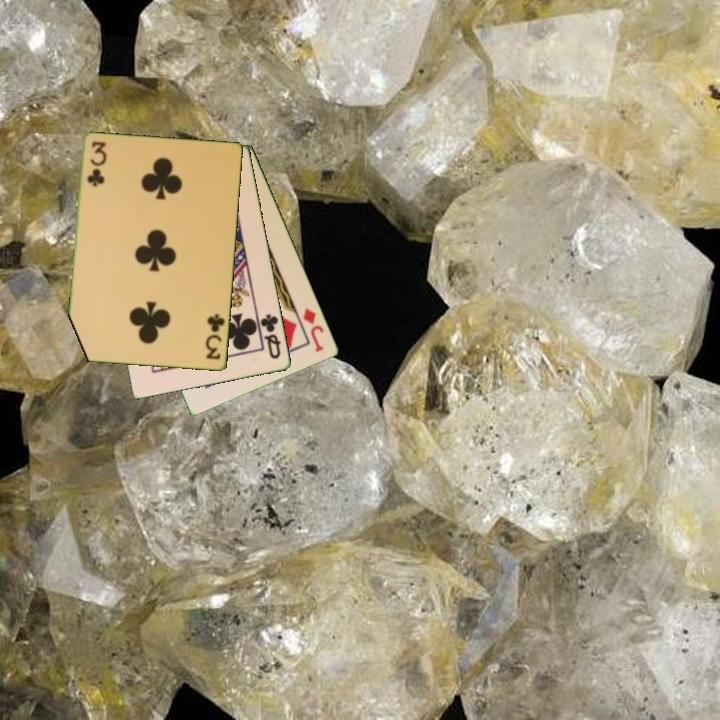3c: (202, 310, 228, 363), (83, 138, 107, 190)
Jd: (300, 304, 327, 355)
Qc: (257, 310, 284, 362)
